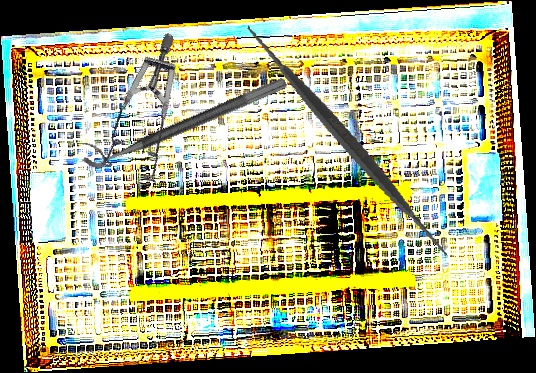Fixation Ring: (75, 59, 289, 175)
Spatula Surgical: (214, 8, 480, 275)
Speculum: (63, 31, 239, 202)
